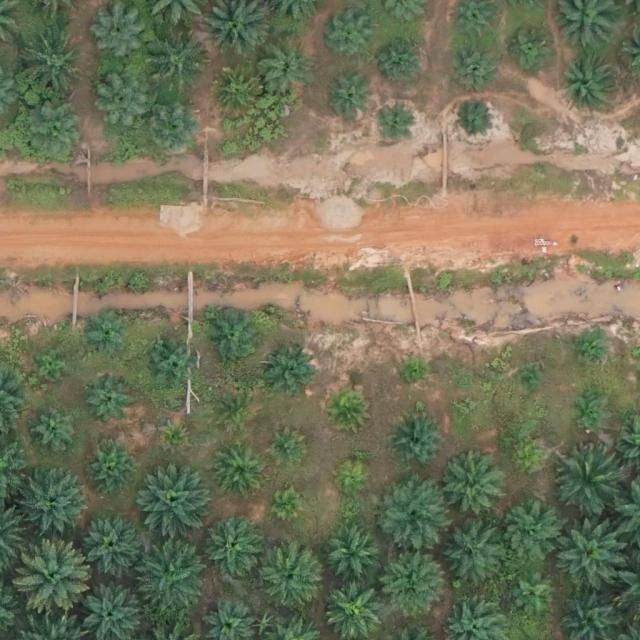Healthy: (555, 526, 625, 597), (377, 478, 447, 549), (140, 547, 210, 618), (140, 464, 210, 535), (552, 444, 622, 514), (21, 469, 91, 539), (16, 34, 86, 104), (444, 458, 507, 521), (380, 556, 443, 619), (202, 515, 265, 578), (82, 514, 145, 577), (145, 29, 207, 92), (27, 104, 89, 167), (503, 502, 565, 564), (445, 525, 507, 587), (258, 548, 320, 610), (390, 414, 445, 469), (326, 527, 381, 582), (144, 337, 199, 392), (212, 444, 267, 499), (85, 441, 140, 496), (562, 57, 617, 112), (446, 42, 501, 97), (208, 66, 263, 121), (260, 45, 315, 100), (145, 103, 200, 158), (90, 7, 145, 62), (207, 309, 261, 364), (97, 74, 151, 129)
Small: (380, 35, 427, 83), (267, 352, 314, 399), (85, 378, 132, 425), (509, 24, 556, 71), (329, 15, 376, 62), (327, 77, 374, 124), (511, 569, 558, 616), (86, 313, 125, 353), (37, 410, 76, 450), (456, 100, 495, 140), (373, 103, 412, 142), (575, 333, 606, 364), (572, 397, 603, 428), (38, 351, 69, 382), (518, 370, 542, 394), (402, 360, 425, 384), (512, 445, 535, 468), (457, 400, 473, 416)
Yellow: (15, 542, 86, 613), (329, 389, 369, 429), (219, 393, 258, 432), (336, 464, 367, 496), (275, 491, 306, 522), (271, 433, 302, 464), (161, 424, 184, 447)
